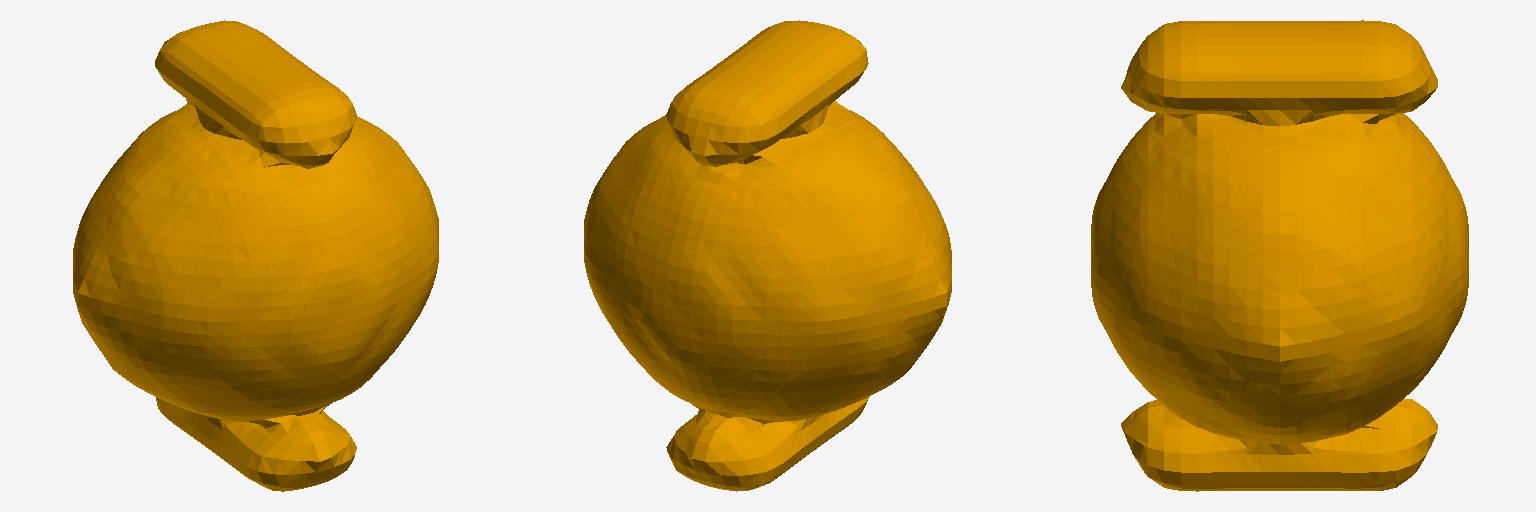
The robot description file, URDF, robot "B09_3":
<?xml version="1.0"?>
<robot name="B09_3">
  <link name="base_link">
    <inertial>
      <mass value="0.09080" />
      <origin xyz="0 0 0" />
      <inertia  ixx="0.0002" ixy="0.0"  ixz="0.0"  iyy="0.0002"  iyz="0.0" izz="0.0002" />
    </inertial>
    <visual>
      <geometry>
        <mesh filename="../../../meshes/egad/train/B09_3.obj" />
      </geometry>
    </visual>
    <collision>
      <geometry>
        <mesh filename="../../../meshes/egad/train/B09_3.obj" />
      </geometry>
    </collision>
  </link>
</robot>

--- Facts derived from the render (not from the file) ---
3 views of the same robot in one strip: view 1: azimuth 30°, elevation 25°; view 2: azimuth 150°, elevation 25°; view 3: azimuth 270°, elevation 25° (orthographic).
Robot: B09_3 — 1 links, 0 joints (none); root link base_link; default pose: every joint at zero.
Visible links, largest first — view 1: base_link; view 2: base_link; view 3: base_link.
Boxes of the visible links, bbox=[...] form: base_link: bbox=[73, 20, 438, 491]; base_link: bbox=[584, 20, 951, 491]; base_link: bbox=[1091, 20, 1468, 491].
Bounding box of the posed robot: 0.0737 × 0.06 × 0.078 m (x, y, z).
1 mesh visuals loaded from 1 distinct referenced files (1 OBJ).